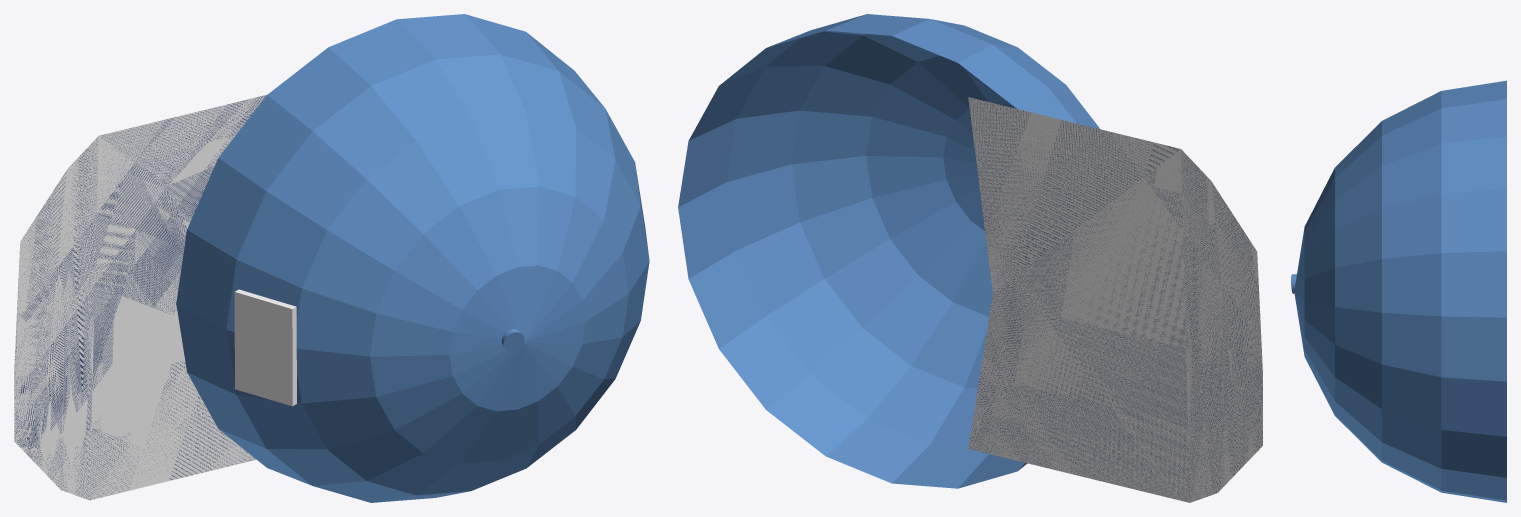
3 views of the same model, side by side, from view 1: azimuth 30°, elevation 25°; view 2: azimuth 150°, elevation 25°; view 3: azimuth 270°, elevation 25° (orthographic). The views are drawn at different scales.
Visible parts, largest first — view 1: tommy hilfiger baseball cap; view 2: tommy hilfiger baseball cap; view 3: tommy hilfiger baseball cap.
Boxes of the visible parts, x1,y1,x2,y2 form: tommy hilfiger baseball cap: [14, 14, 649, 502]; tommy hilfiger baseball cap: [678, 14, 1262, 502]; tommy hilfiger baseball cap: [1291, 80, 1506, 502].
Size of the model in its own units: 209 by 153 by 77.49.
